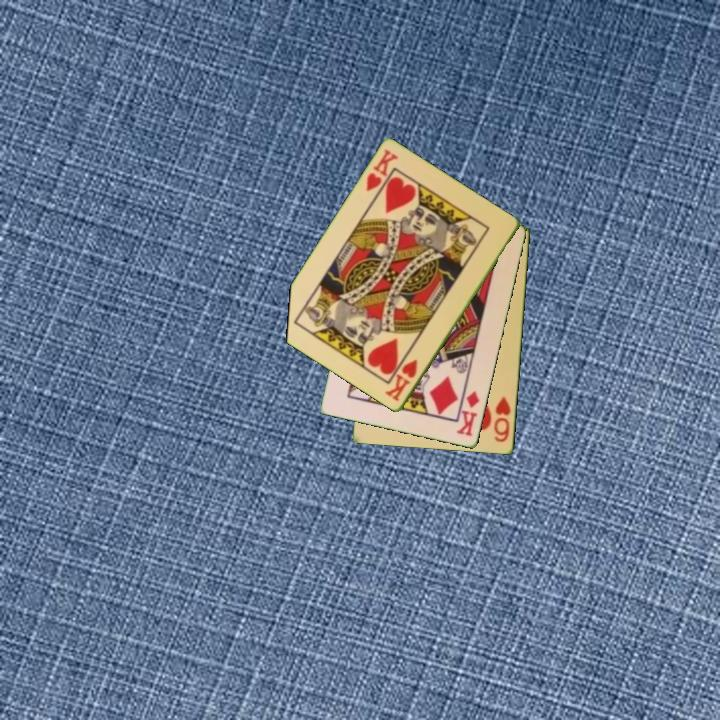6h: (491, 393, 514, 445)
Kd: (453, 388, 483, 439)
Kh: (382, 356, 421, 405), (362, 146, 401, 195)
